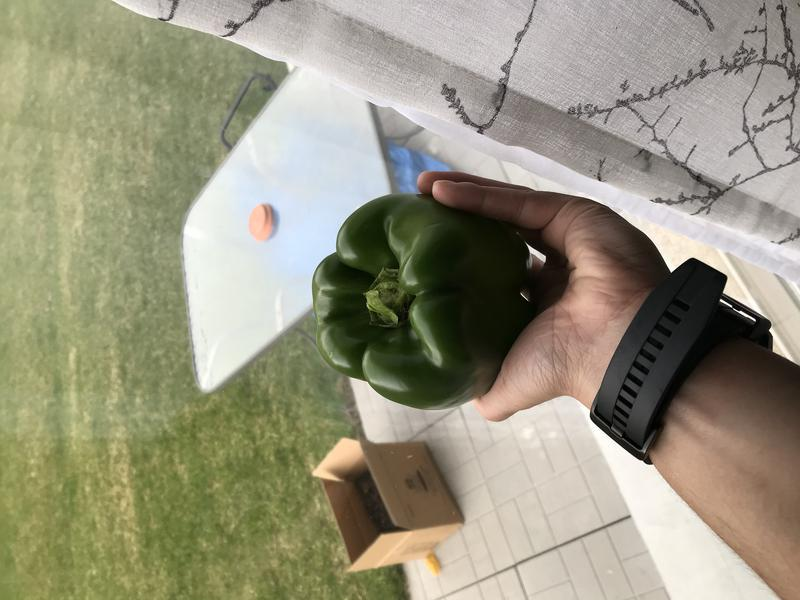green_pepper: (306, 187, 564, 416)
